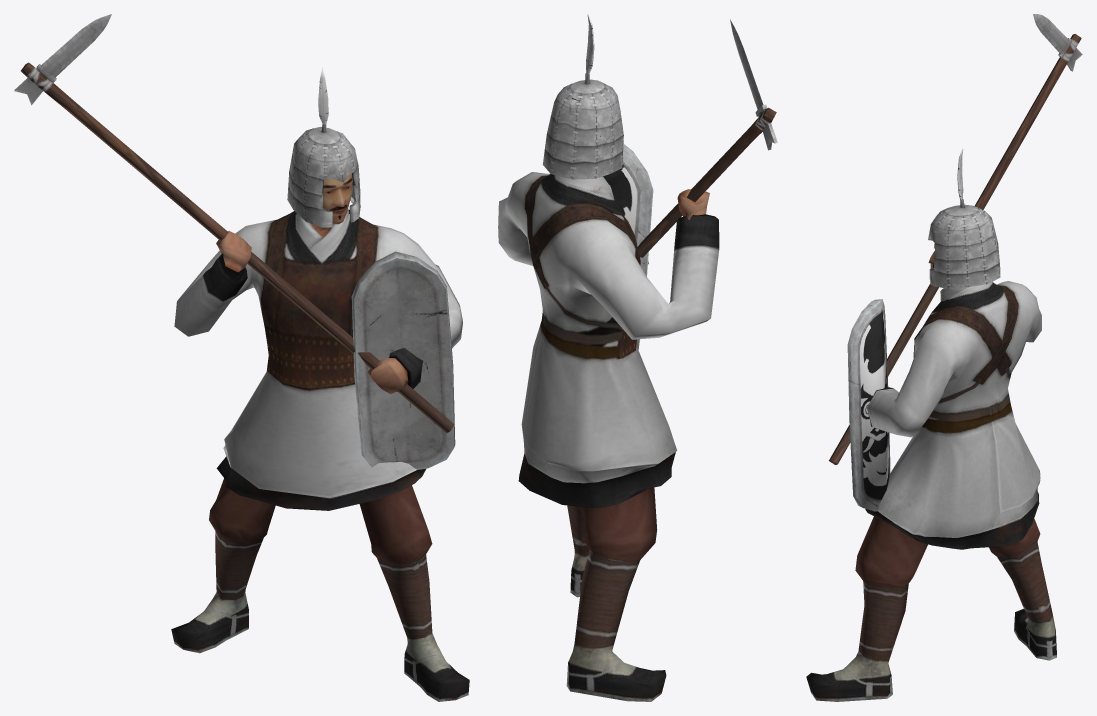
Rendered from 27-gehalberdier.glb.
3 views of the same model, side by side, from view 1: azimuth 30°, elevation 25°; view 2: azimuth 150°, elevation 25°; view 3: azimuth 270°, elevation 25° (orthographic). The views are drawn at different scales.
Size of the model in its own units: 1.47 by 2.58 by 1.11.
Materials: 4 (4 with a texture image).
